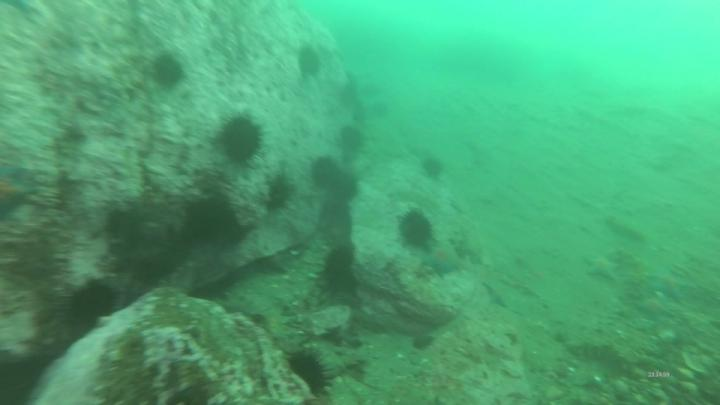echinus: (214, 108, 269, 170), (185, 192, 241, 244), (66, 283, 114, 332), (289, 347, 332, 400), (320, 245, 361, 299), (396, 207, 436, 253), (307, 151, 347, 190), (153, 51, 189, 89), (295, 45, 325, 82), (342, 124, 364, 156), (420, 154, 444, 183)
holothurian: (565, 341, 619, 365)
starfish: (644, 269, 695, 305), (423, 241, 460, 280), (584, 251, 618, 284)
